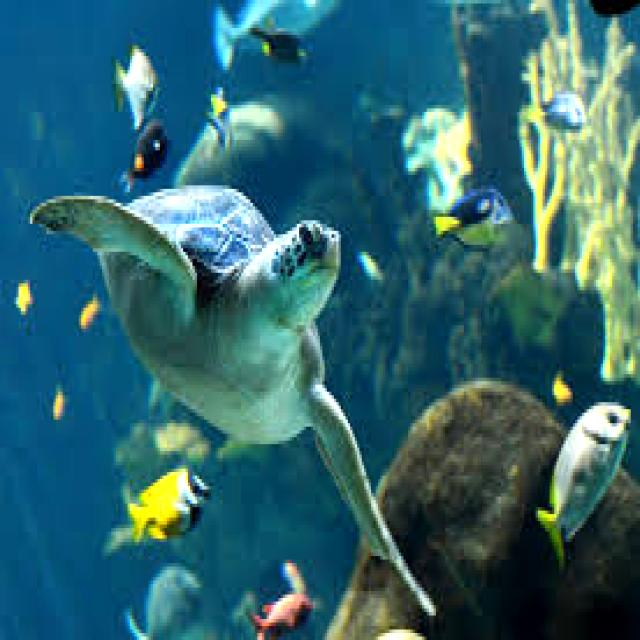Sea turtle: (31, 180, 438, 617)
